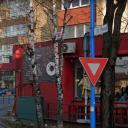preferencia: (76, 54, 112, 90)
